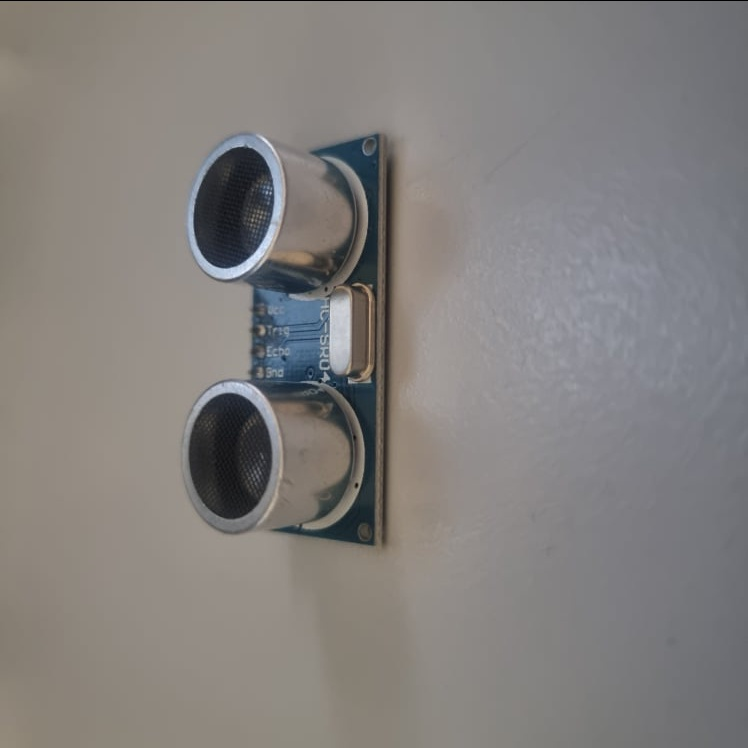SENSOR: (179, 127, 387, 548)
